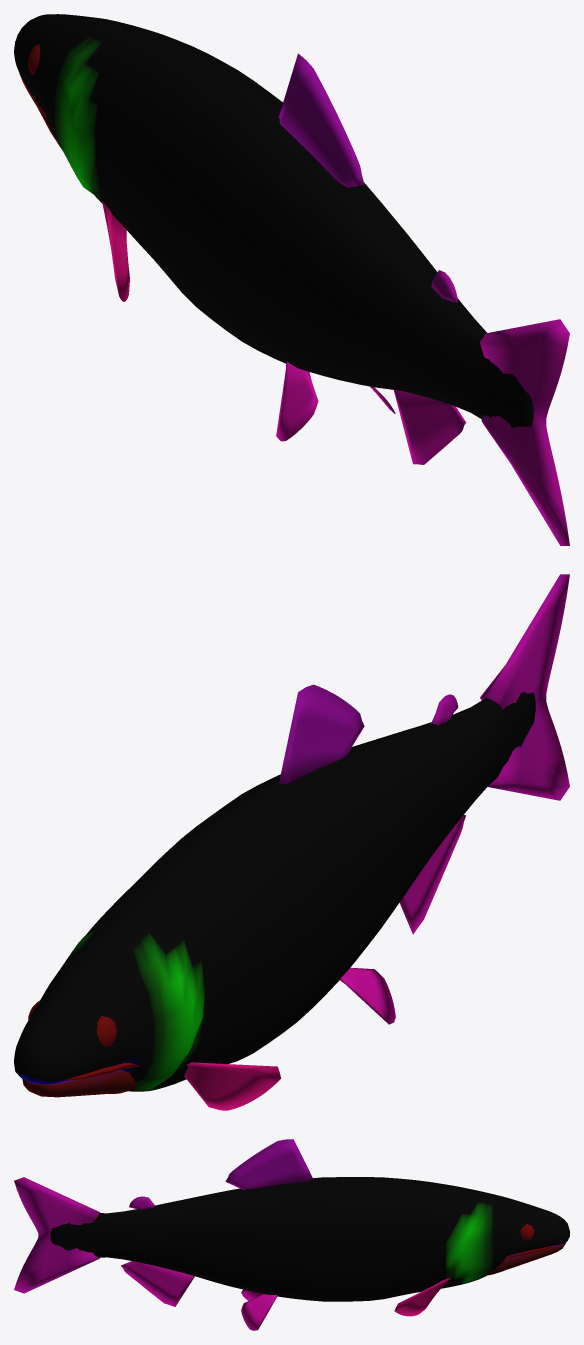
File: sockeye_spawner_female_lo.glb
3 renders of one model, top to bottom at view 1: azimuth 30°, elevation 25°; view 2: azimuth 150°, elevation 25°; view 3: azimuth 270°, elevation 25°, orthographic. The views are drawn at different scales.
Visible parts, largest first — view 1: sockeye_spawner_female_lo; view 2: sockeye_spawner_female_lo; view 3: sockeye_spawner_female_lo.
Boxes of the visible parts, left/top/right/bottom form: sockeye_spawner_female_lo: left=14, top=14, right=569, bottom=545; sockeye_spawner_female_lo: left=14, top=574, right=569, bottom=1110; sockeye_spawner_female_lo: left=14, top=1139, right=569, bottom=1330.
Bounding box in the file's own units: 0.1037 × 0.2102 × 0.5966.
